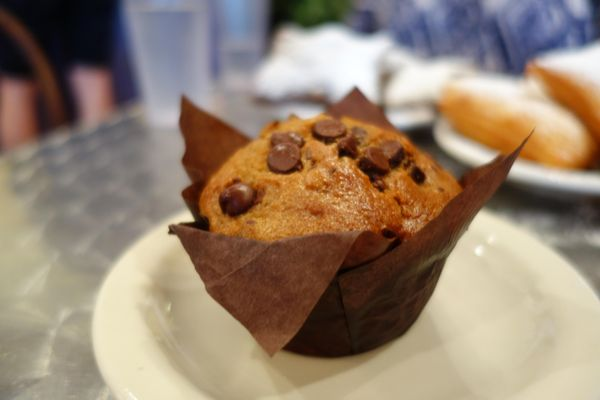pizza: (126, 0, 216, 131)
